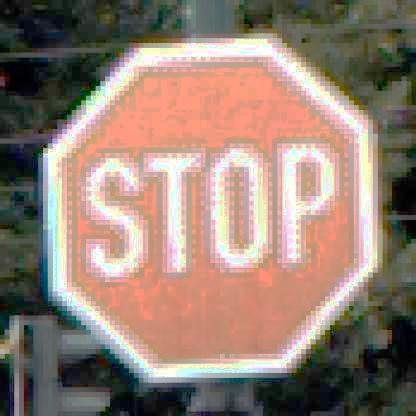Stop Sign: (42, 35, 386, 382)
